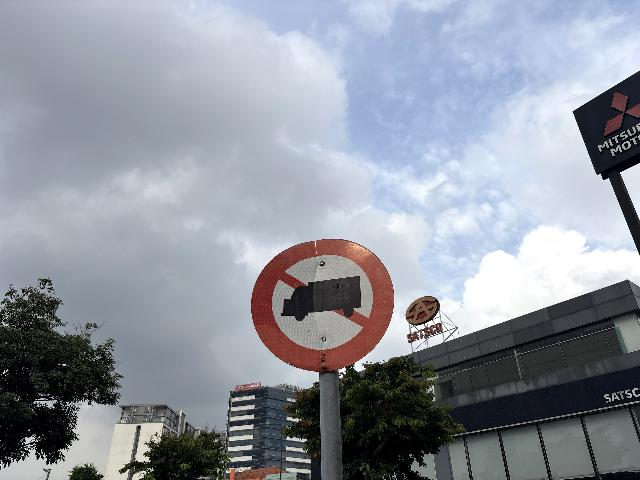cam-xe-tai: (251, 238, 395, 373)
